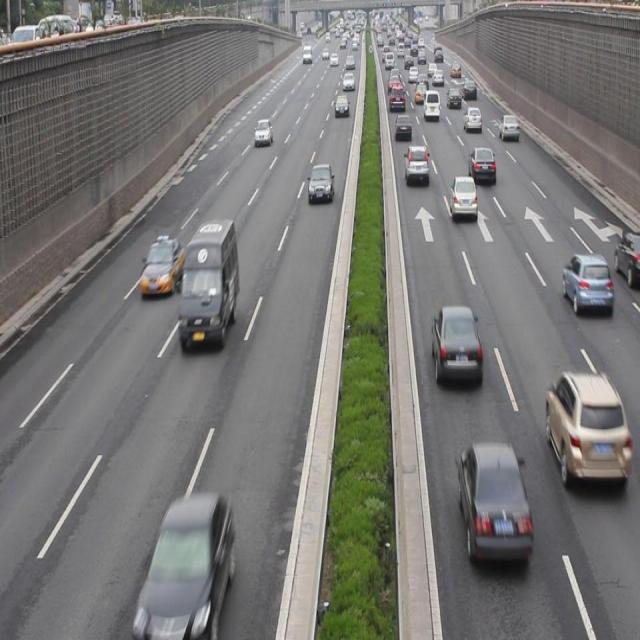car: (140, 497, 236, 631), (543, 369, 628, 491), (456, 441, 531, 566), (430, 306, 482, 385), (562, 253, 612, 318), (141, 235, 184, 298), (613, 230, 637, 288), (449, 175, 477, 221), (466, 145, 496, 186), (404, 143, 429, 188), (306, 167, 334, 204), (462, 106, 482, 135), (497, 114, 517, 143), (254, 120, 272, 146), (394, 115, 410, 142)
truck: (179, 222, 237, 341)
